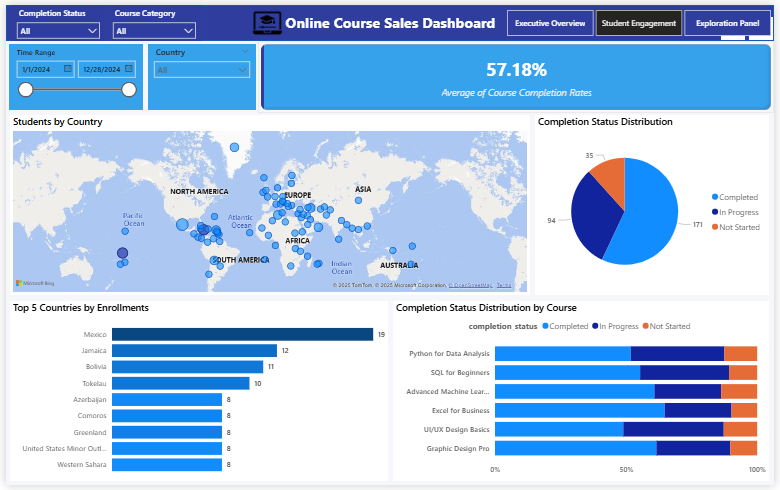

The page's visual inventory and layout, read from the dashboard file:
{"tool":"powerbi","page":{"name":"Student Engagement","canvas":[1280,800],"ordinal":1},"visuals":[{"type":"shape","box":[0,0,1280,60],"z":0},{"type":"textbox","box":[452.8,6.7,375,46.7],"z":1000},{"type":"cardVisual","fields":{"Data":["_Measures.Average of Course Completion Rates"]},"box":[420,60,860,120],"z":2000},{"type":"azureMap","title":"Students by Country","fields":{"Category":["students.country"],"Size":["CountNonNull(students.student_name)"]},"box":[6.7,183.3,866,300],"z":3000},{"type":"pieChart","title":"Completion Status Distribution","fields":{"Category":["enrollments.completion_status"],"Y":["CountNonNull(enrollments.enrollment_id)"]},"box":[881.7,183.3,390,300],"z":4000},{"type":"barChart","title":"Top 5 Countries by Enrollments","fields":{"Category":["students.country"],"Y":["_Measures.Total Enrollments"]},"box":[6.7,493.3,630,300],"z":5000},{"type":"hundredPercentStackedBarChart","title":"Completion Status Distribution by Course ","fields":{"Y":["_Measures.% of Students"],"Series":["enrollments.completion_status"],"Category":["courses.course_name"]},"box":[645,493.3,627,300],"z":6000},{"type":"image","box":[401.1,0,68.3,60],"z":7000},{"type":"slicer","fields":{"Values":["courses.category"]},"box":[168.3,0,158.3,60],"z":8000},{"type":"slicer","fields":{"Values":["enrollments.enroll_date"]},"box":[5,65,221.7,110],"z":9000},{"type":"slicer","fields":{"Values":["students.country"]},"box":[236.7,65,180,110],"z":10000},{"type":"slicer","fields":{"Values":["enrollments.completion_status"]},"box":[8.3,0,158.3,60],"z":11000},{"type":"pageNavigator","box":[835,8.3,440,43.3],"z":12000}]}

Visuals, with their boxes in screenshot pixels (x1, y1, x2, y2), scaled from the page's 1280x800 canvas onto the 780x490 screenshot:
shape: (left=0, top=0, right=779, bottom=37)
textbox: (left=276, top=4, right=504, bottom=33)
cardVisual - _Measures.Average of Course Completion Rates: (left=256, top=37, right=779, bottom=110)
"Students by Country" azureMap: (left=4, top=112, right=532, bottom=296)
"Completion Status Distribution" pieChart: (left=537, top=112, right=775, bottom=296)
"Top 5 Countries by Enrollments" barChart: (left=4, top=302, right=388, bottom=486)
"Completion Status Distribution by Course " hundredPercentStackedBarChart: (left=393, top=302, right=775, bottom=486)
image: (left=244, top=0, right=286, bottom=37)
slicer - courses.category: (left=103, top=0, right=199, bottom=37)
slicer - enrollments.enroll_date: (left=3, top=40, right=138, bottom=107)
slicer - students.country: (left=144, top=40, right=254, bottom=107)
slicer - enrollments.completion_status: (left=5, top=0, right=102, bottom=37)
pageNavigator: (left=509, top=5, right=777, bottom=32)
